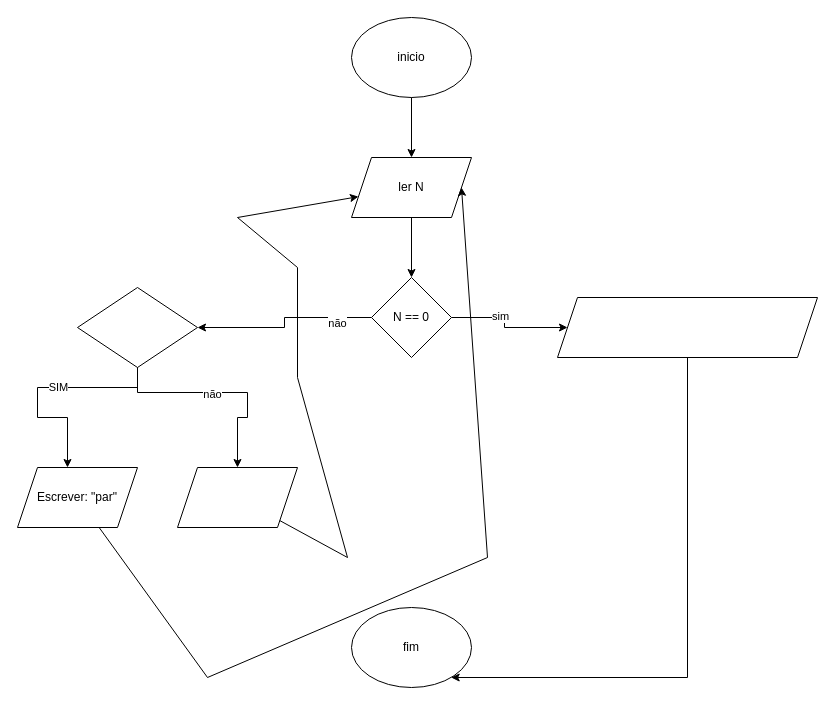
This 835x705 diagram has some shape labels left out. The centre of each missing label's shape, as x and y in pixels:
escrever: "digitou zero a desligar programa": point 687,327
Escrever: "impar": point 237,497
N MOD 2 == 0: point 137,327
